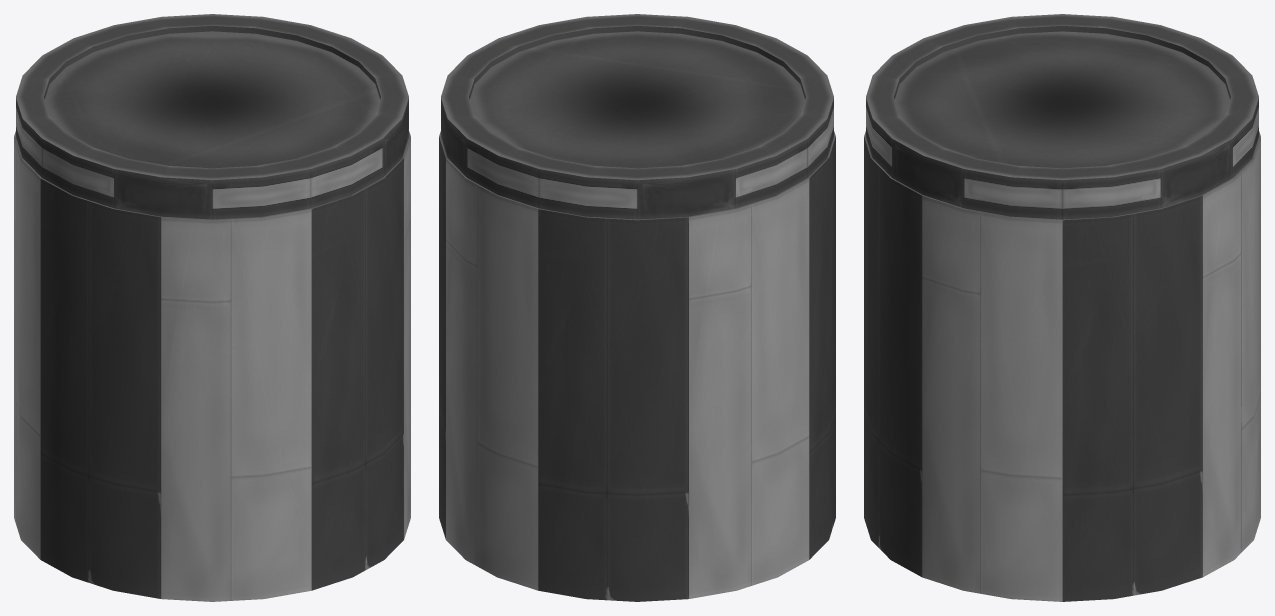
Rendered from LR87_Mod4.dae.
3 renders of one model, left to right at view 1: azimuth 30°, elevation 25°; view 2: azimuth 150°, elevation 25°; view 3: azimuth 270°, elevation 25°, orthographic.
Visible parts, largest first — view 1: fairing, LR_87_Titan6_pCube35; view 2: fairing, LR_87_Titan6_pCube35; view 3: fairing, LR_87_Titan6_pCube35.
Part boxes in pixels (bbox=[...]): fairing: bbox=[14, 131, 410, 601]; LR_87_Titan6_pCube35: bbox=[16, 14, 408, 219]; fairing: bbox=[439, 131, 835, 601]; LR_87_Titan6_pCube35: bbox=[441, 14, 833, 219]; fairing: bbox=[864, 131, 1260, 601]; LR_87_Titan6_pCube35: bbox=[866, 14, 1258, 219].
Size of the model in its own units: 1.89 by 2.23 by 1.89.
